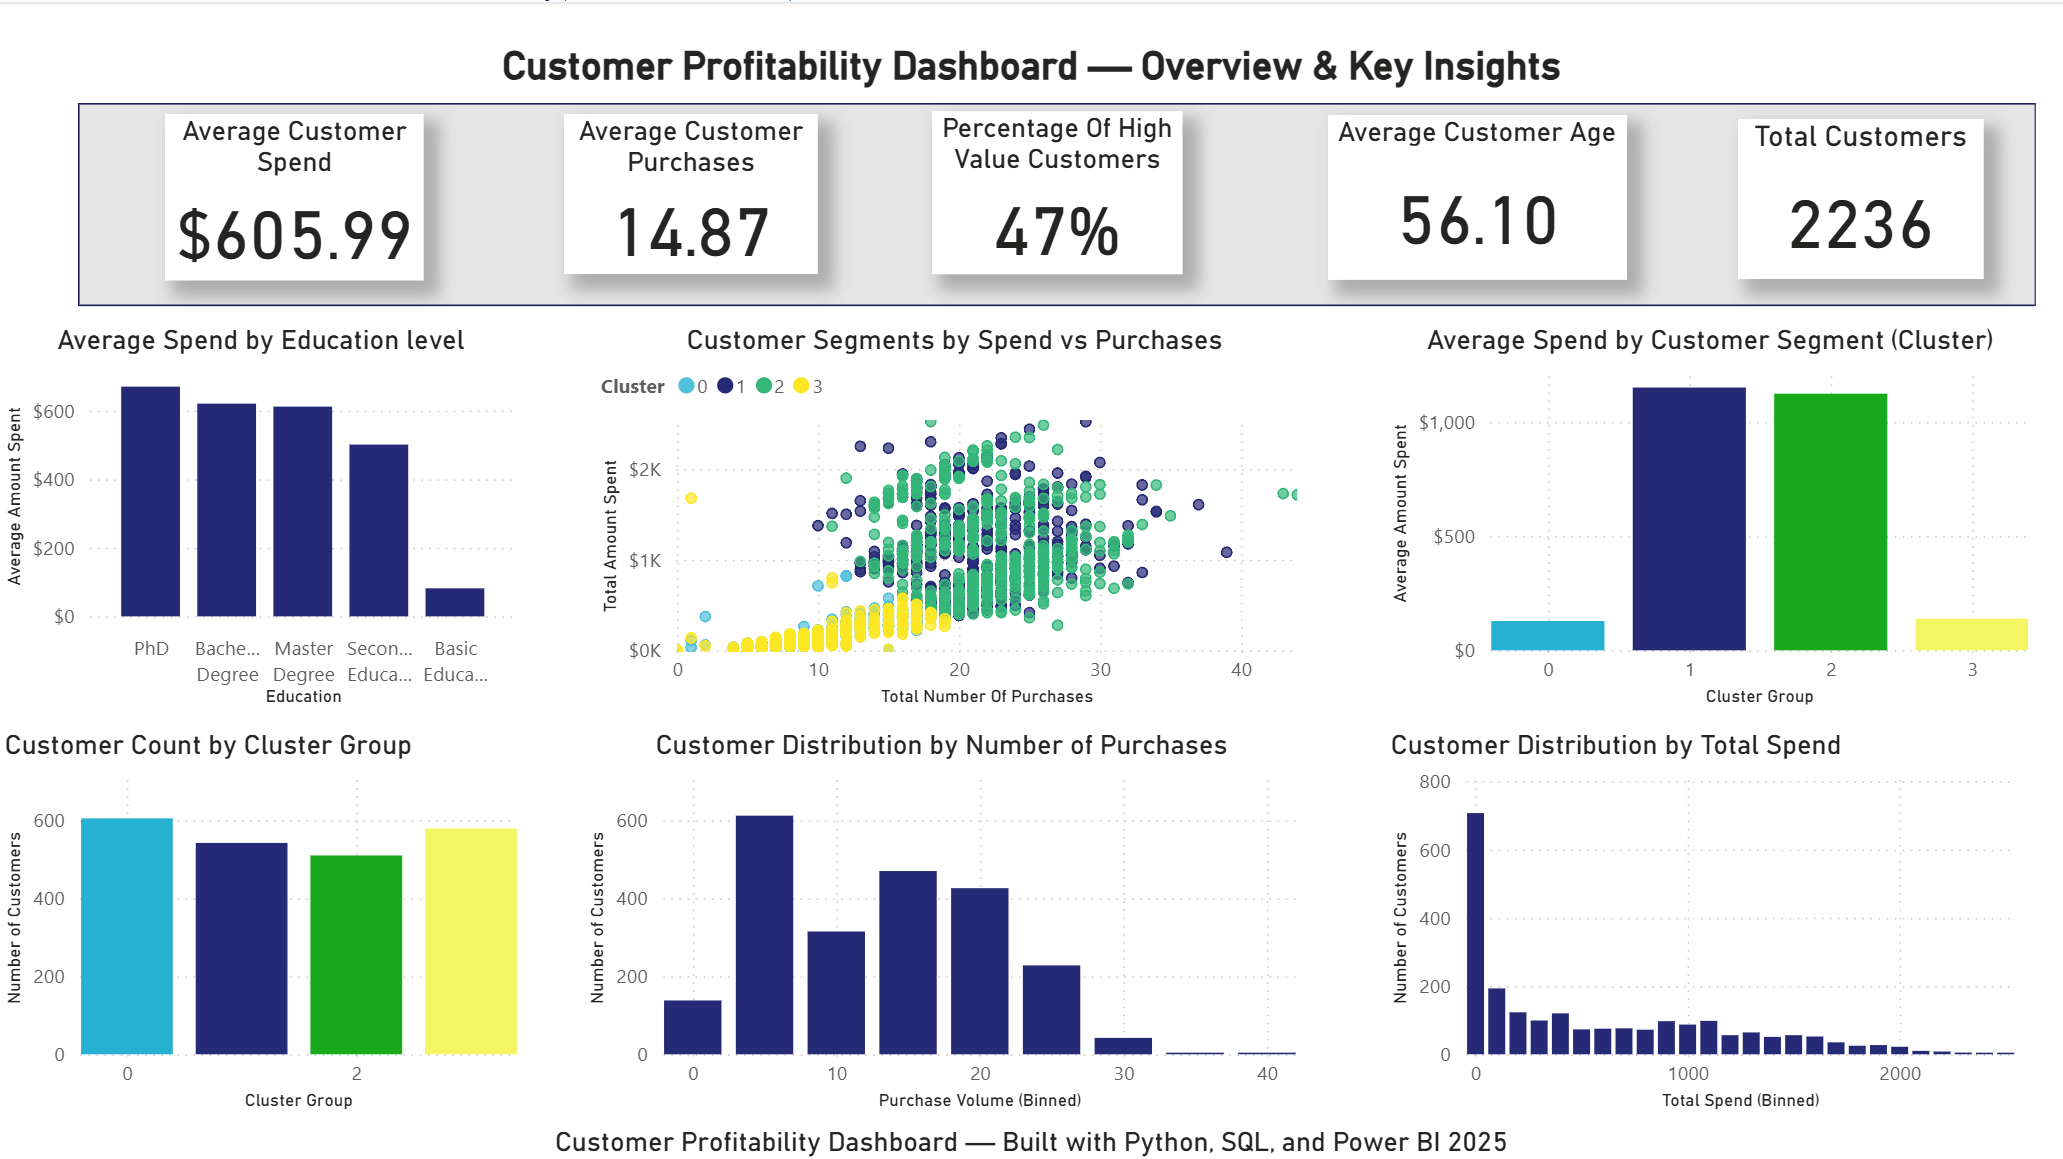

The page's visual inventory and layout, read from the dashboard file:
{"tool":"powerbi","page":{"name":"Page 1","canvas":[1280,720],"ordinal":0},"visuals":[{"type":"shape","box":[50.4,62.2,1211.3,125.6],"z":0},{"type":"card","title":"Average Customer Spend","fields":{"Values":["Avg(customer_profitability_final.Total_Spend)"]},"box":[104,69.4,160.3,102.7],"z":1000},{"type":"card","title":"Average Customer Purchases","fields":{"Values":["Avg(customer_profitability_final.Total_Purchases)"]},"box":[350.8,69.4,157.1,99.5],"z":2000},{"type":"card","title":"Total Customers","fields":{"Values":["Count(customer_profitability_final.customerid)"]},"box":[1077.1,72.6,151.8,99.5],"z":3000},{"type":"clusteredColumnChart","title":"Average Spend by Education level","fields":{"Category":["customer_profitability_final.Education"],"Y":["Avg(customer_profitability_final.Total_Spend)"]},"box":[0,198.3,326.5,241.5],"z":4000},{"type":"scatterChart","title":"Customer Segments by Spend vs Purchases","fields":{"X":["customer_profitability_final.Total_Purchases"],"Y":["customer_profitability_final.Total_Spend"],"Series":["customer_profitability_final.Cluster"]},"box":[368.4,198.3,447.6,241.5],"z":5000},{"type":"clusteredColumnChart","title":"Average Spend by Customer Segment (Cluster)","fields":{"Category":["customer_profitability_final.Cluster"],"Y":["Avg(customer_profitability_final.Total_Spend)"]},"box":[857.3,198.3,404.4,241.5],"z":6000},{"type":"textbox","box":[0,689.7,1280,30.1],"z":7000},{"type":"clusteredColumnChart","fields":{"Category":["customer_profitability_final.Cluster"],"Y":["Count(customer_profitability_final.customerid)"]},"box":[0,448.9,326.5,240.8],"z":8000},{"type":"clusteredColumnChart","title":"Customer Distribution by Number of Purchases","fields":{"Category":["customer_profitability_final.Total_Purchases (bins)"],"Y":["Count(customer_profitability_final.customerid)"]},"box":[360.6,448.9,447.6,240.8],"z":9000},{"type":"clusteredColumnChart","title":"Customer Distribution by Total Spend","fields":{"Category":["customer_profitability_final.Total_Spend (bins)"],"Y":["Count(customer_profitability_final.customerid)"]},"box":[857.3,448.9,404.4,240.8],"z":10000},{"type":"card","title":"Average Customer Age","fields":{"Values":["Avg(customer_profitability_final.Age)"]},"box":[823.2,70,184.5,102.1],"z":11000},{"type":"card","title":"Percentage Of High Value Customers","fields":{"Values":["customer_profitability_final.Percent High Value Customers"]},"box":[578.5,67.4,155.1,101.4],"z":12000},{"type":"textbox","box":[0,20.3,1280,41.9],"z":13000}]}

Visuals, with their boxes in screenshot pixels (x1, y1, x2, y2), scaled from the page's 1280x720 canvas onto the 2063x1159 screenshot:
shape: <bbox>81, 100, 2034, 302</bbox>
"Average Customer Spend" card: <bbox>168, 112, 426, 277</bbox>
"Average Customer Purchases" card: <bbox>565, 112, 819, 272</bbox>
"Total Customers" card: <bbox>1736, 117, 1981, 277</bbox>
"Average Spend by Education level" clusteredColumnChart: <bbox>0, 319, 526, 708</bbox>
"Customer Segments by Spend vs Purchases" scatterChart: <bbox>594, 319, 1315, 708</bbox>
"Average Spend by Customer Segment (Cluster)" clusteredColumnChart: <bbox>1382, 319, 2034, 708</bbox>
textbox: <bbox>0, 1110, 2062, 1158</bbox>
clusteredColumnChart - customer_profitability_final.Cluster x Count(customer_profitability_final.customerid): <bbox>0, 723, 526, 1110</bbox>
"Customer Distribution by Number of Purchases" clusteredColumnChart: <bbox>581, 723, 1303, 1110</bbox>
"Customer Distribution by Total Spend" clusteredColumnChart: <bbox>1382, 723, 2034, 1110</bbox>
"Average Customer Age" card: <bbox>1327, 113, 1624, 277</bbox>
"Percentage Of High Value Customers" card: <bbox>932, 108, 1182, 272</bbox>
textbox: <bbox>0, 33, 2062, 100</bbox>
